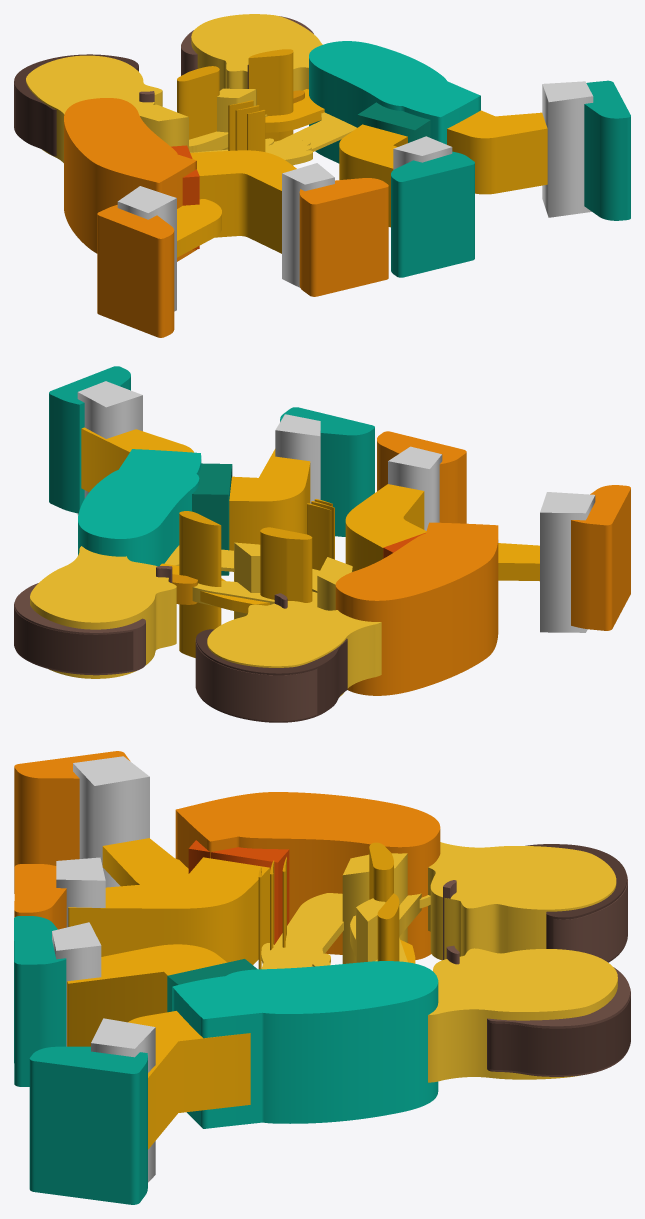
File: emoji_u1f93c_200d_2642.glb
The picture shows the model from 3 angles, top to bottom: view 1: azimuth 30°, elevation 25°; view 2: azimuth 150°, elevation 25°; view 3: azimuth 270°, elevation 25°; orthographic projection. The views are drawn at different scales.
Parts seen in each view (by area): view 1: emoji_u1f93c_200d_2642; view 2: emoji_u1f93c_200d_2642; view 3: emoji_u1f93c_200d_2642.
Part boxes in pixels (x1,y1,x2,y2): emoji_u1f93c_200d_2642: (14, 14, 630, 337); emoji_u1f93c_200d_2642: (14, 366, 630, 722); emoji_u1f93c_200d_2642: (14, 751, 630, 1204).
Bounding box in the file's own units: 0.033 × 0.008 × 0.0265.
